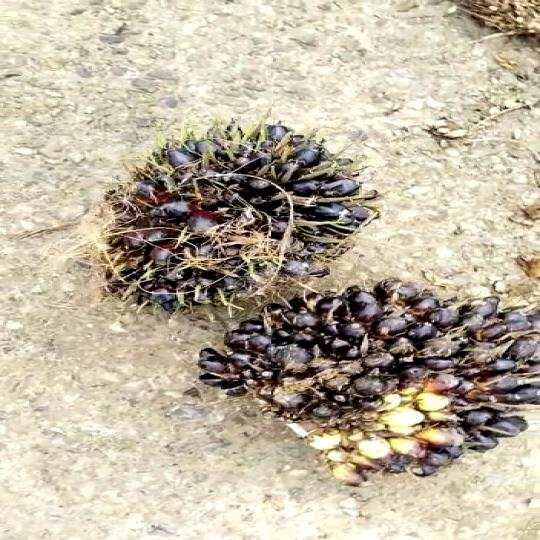mentah: (200, 271, 540, 480), (99, 113, 373, 308)
